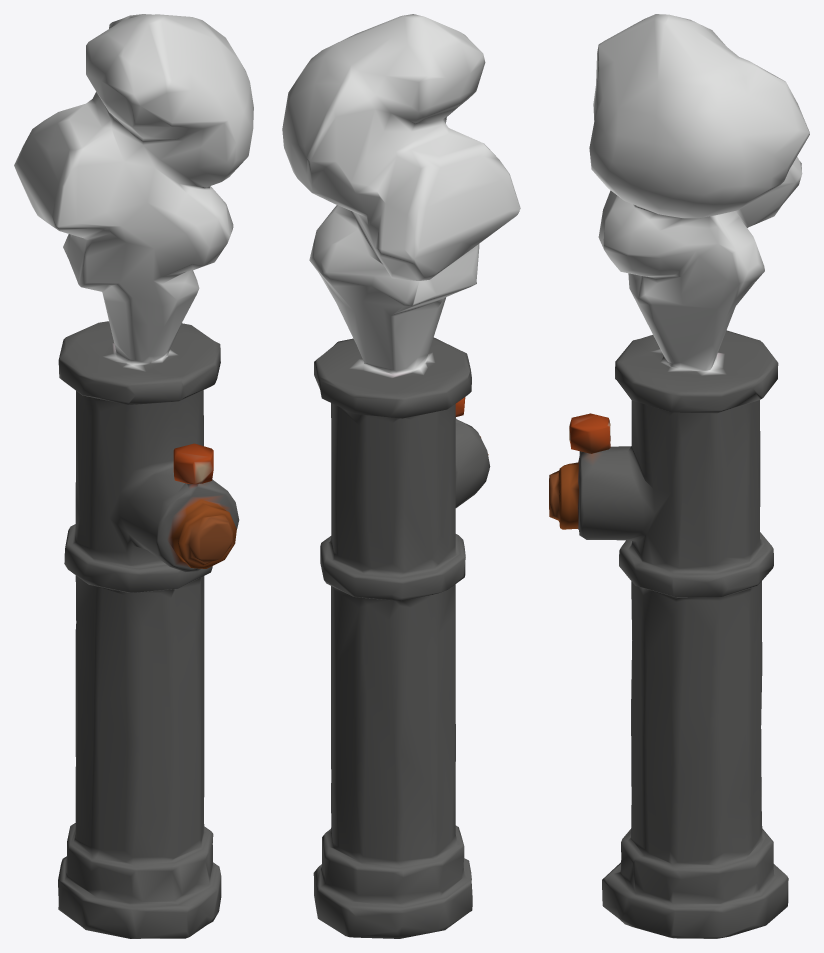
Rendered from gen3d-steam-pipe-lod0.glb.
3 views of the same model, side by side, from view 1: azimuth 30°, elevation 25°; view 2: azimuth 150°, elevation 25°; view 3: azimuth 270°, elevation 25° (orthographic). The views are drawn at different scales.
Visible parts, largest first — view 1: part_0; view 2: part_0; view 3: part_0.
Part boxes in pixels (bbox=[...]): part_0: bbox=[14, 14, 253, 938]; part_0: bbox=[282, 14, 520, 938]; part_0: bbox=[549, 14, 809, 938].
Bounding box in the file's own units: 0.2425 × 0.9966 × 0.2652.
